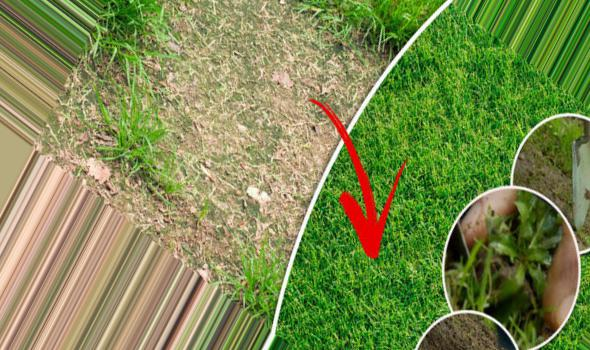patch: (195, 46, 272, 188), (293, 39, 346, 86)
